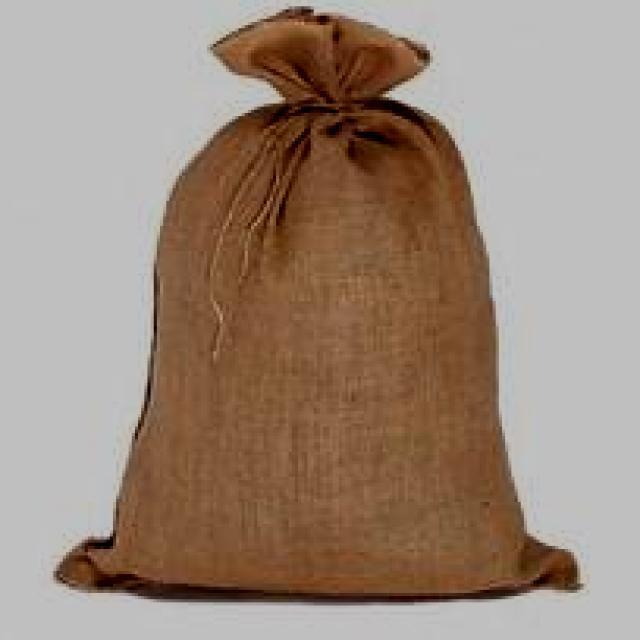gunny_bag: (49, 6, 579, 605)
